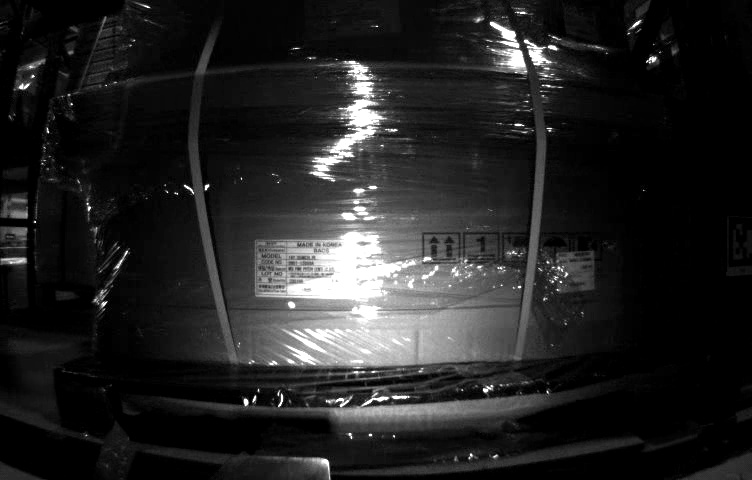True Barcode: (556, 250, 598, 292)
